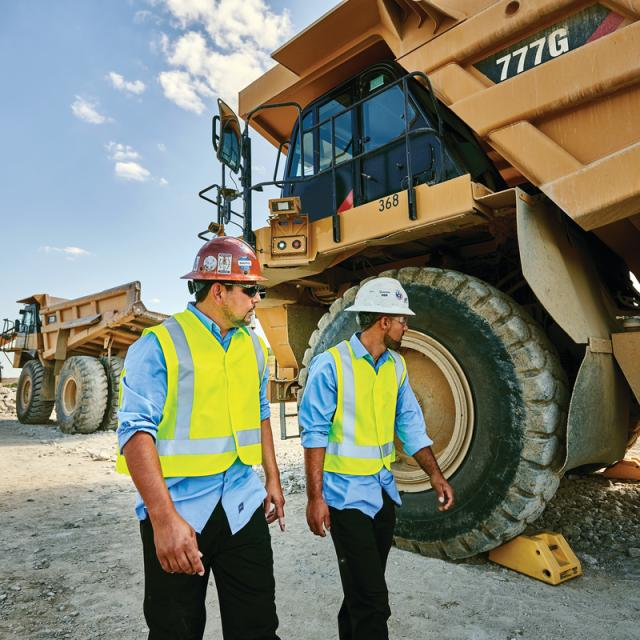helmet: (176, 235, 271, 293), (342, 276, 417, 316)
vest: (115, 307, 273, 489), (306, 339, 412, 480)
